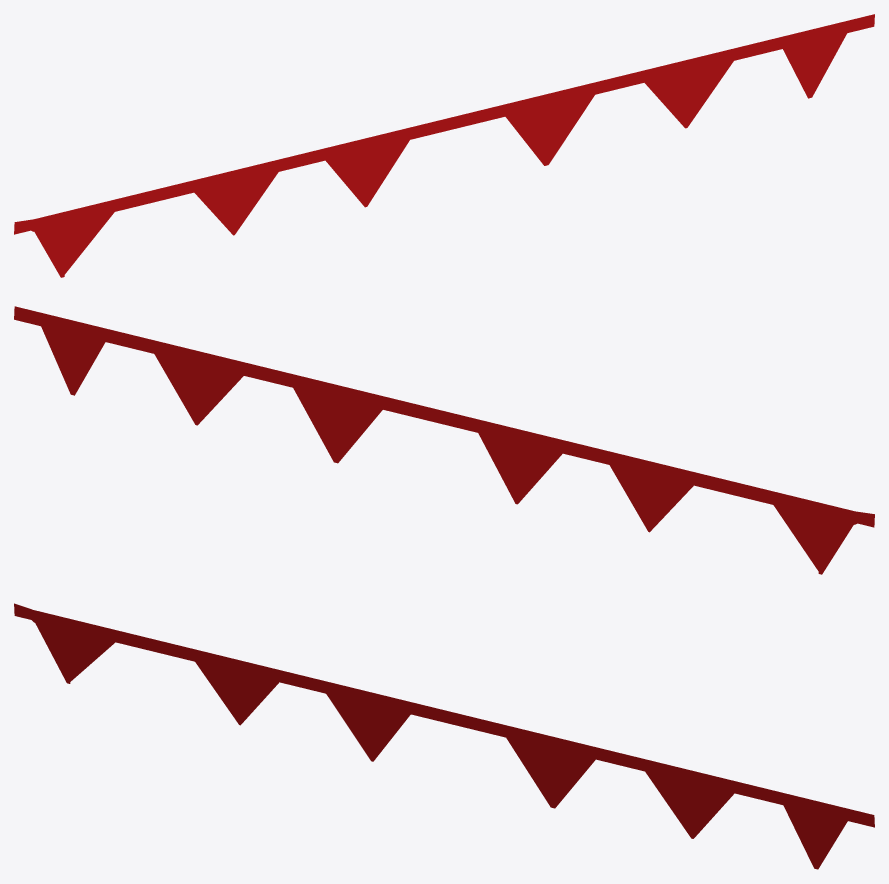
File: Flag3.fbx
3 renders of one model, top to bottom at view 1: azimuth 30°, elevation 25°; view 2: azimuth 150°, elevation 25°; view 3: azimuth 330°, elevation 25°, orthographic.
Parts seen in each view (by area): view 1: Plane; view 2: Plane; view 3: Plane.
Boxes of the visible parts, box(x1,y1,x2,y2) form: Plane: box(14, 14, 874, 277); Plane: box(14, 306, 874, 574); Plane: box(14, 603, 874, 869).
Size of the model in its own units: 768 by 65.44 by 5.55.
